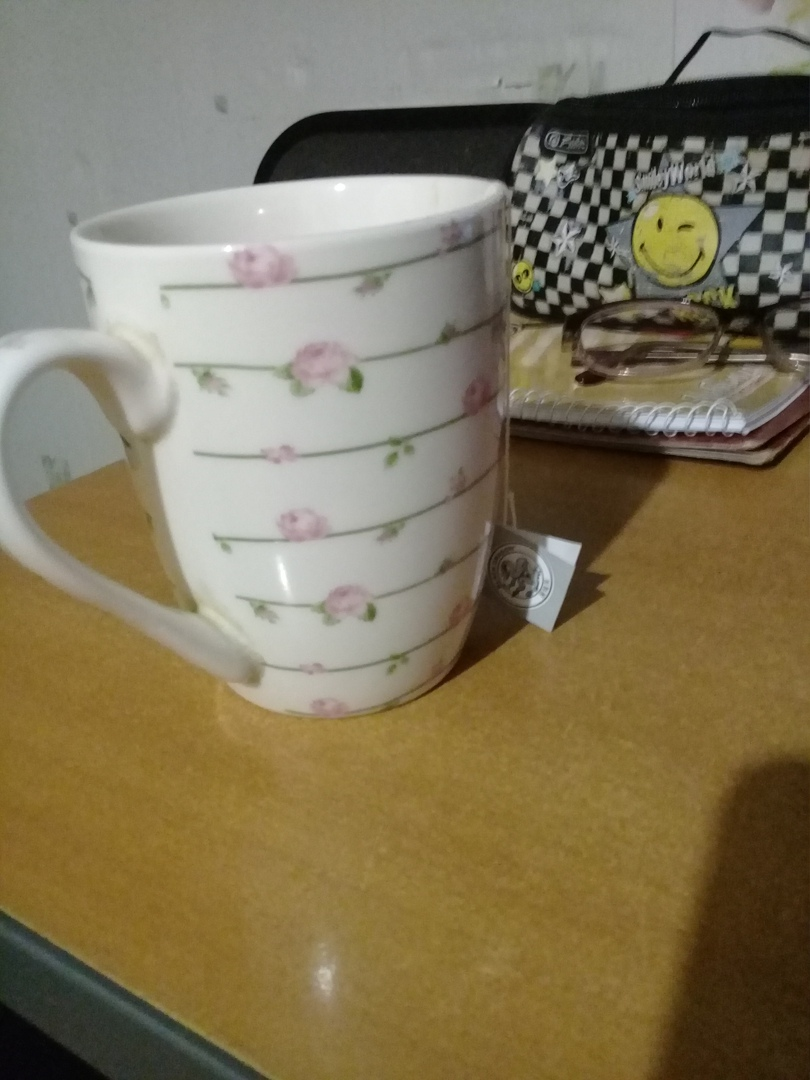cup: (4, 167, 528, 726)
